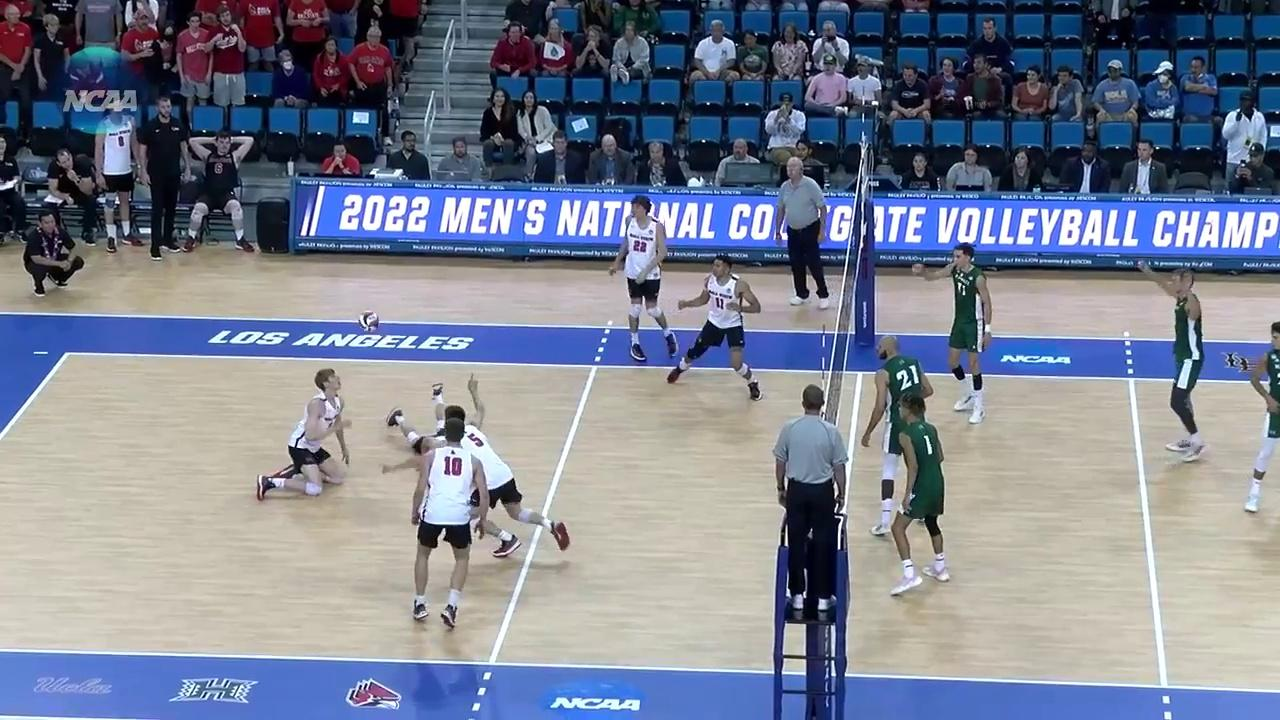player: (438, 407, 571, 556), (377, 380, 496, 521), (407, 422, 484, 625), (668, 259, 765, 403), (257, 367, 353, 504), (882, 393, 946, 595), (1140, 257, 1204, 458), (868, 335, 931, 533), (617, 198, 677, 362), (943, 240, 996, 419), (1242, 312, 1280, 517)
refree: (767, 383, 845, 615), (776, 150, 828, 307)
